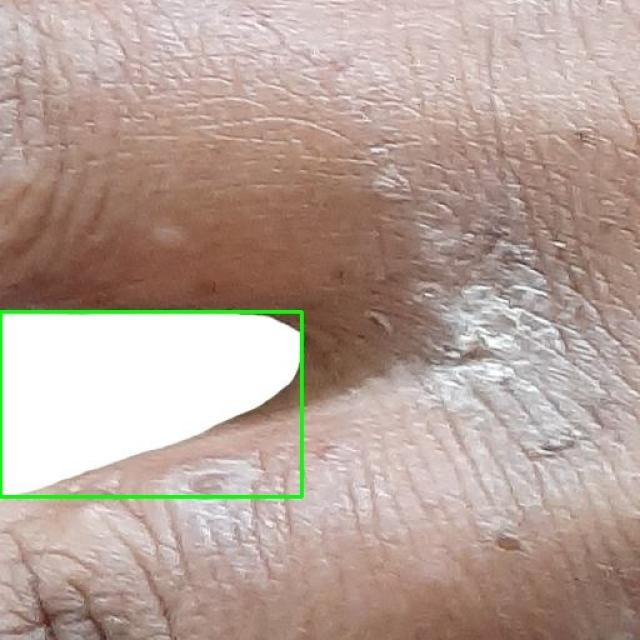Scabies: (0, 311, 301, 496)
